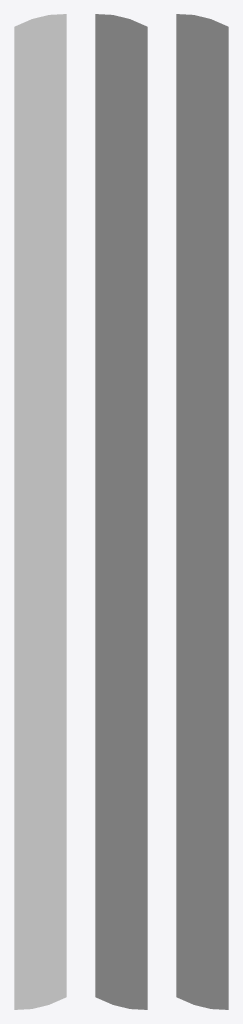
Rendered from Particle_VaporwaveSunTrailD.fbx.
3 views of the same model, side by side, from view 1: azimuth 30°, elevation 25°; view 2: azimuth 150°, elevation 25°; view 3: azimuth 330°, elevation 25° (orthographic).
Parts seen in each view (by area): view 1: VaporwaveSun; view 2: VaporwaveSun; view 3: VaporwaveSun.
Boxes of the visible parts, <box> form: VaporwaveSun: <box>14,14,66,1009</box>; VaporwaveSun: <box>95,14,147,1009</box>; VaporwaveSun: <box>176,14,228,1009</box>.
Bounding box in the file's own units: 0.0438 × 0.7945 × 0.
